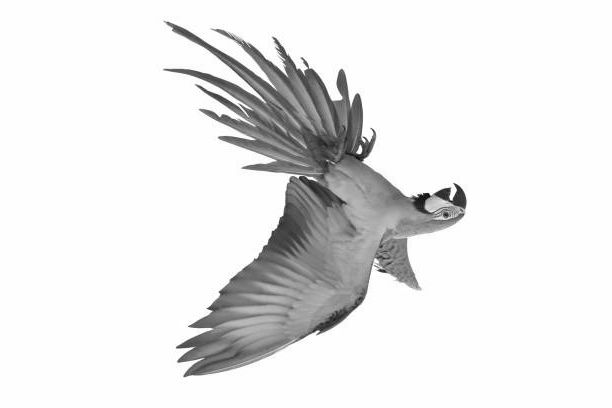Bird: (153, 17, 473, 384)
